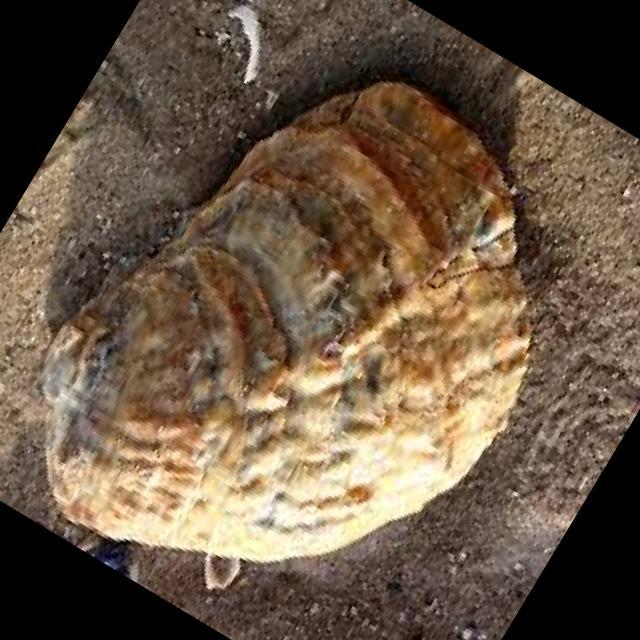Oyster- Indeterminate: (36, 82, 531, 589)
